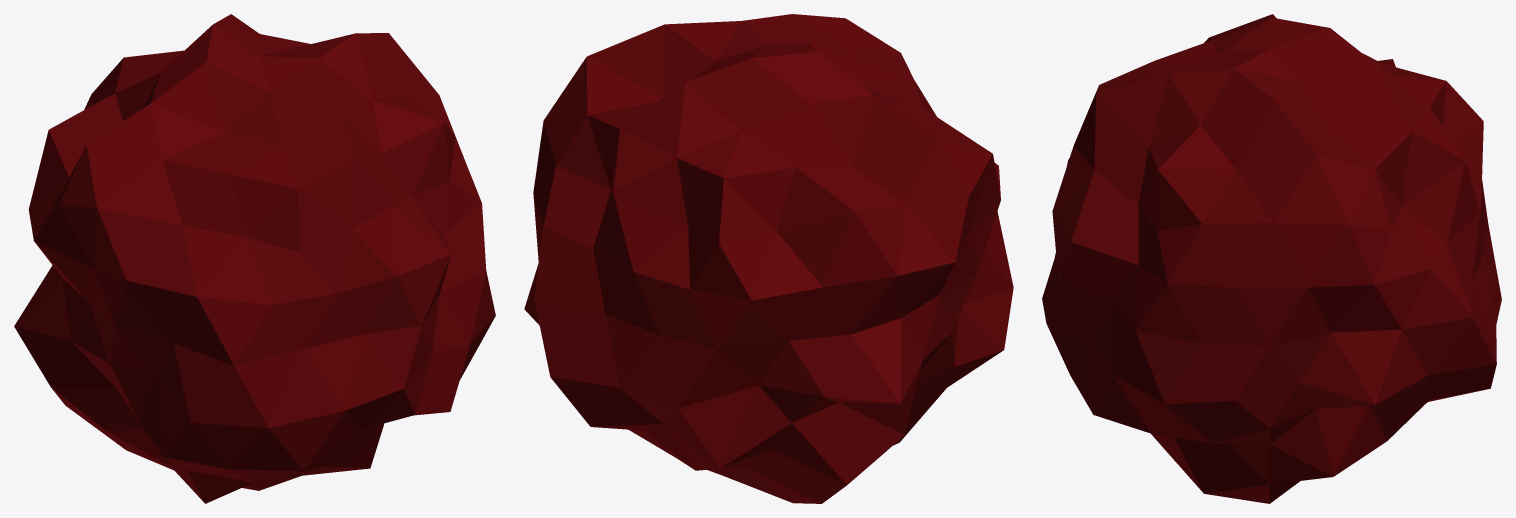
3 views of the same model, side by side, from view 1: azimuth 30°, elevation 25°; view 2: azimuth 150°, elevation 25°; view 3: azimuth 270°, elevation 25° (orthographic).
Parts seen in each view (by area): view 1: planet; view 2: planet; view 3: planet.
Boxes of the visible parts, box(x1,y1,x2,y2) form: planet: box(14, 14, 495, 503); planet: box(524, 14, 1013, 503); planet: box(1042, 14, 1501, 503).
Size of the model in its own units: 140 by 150 by 140.
